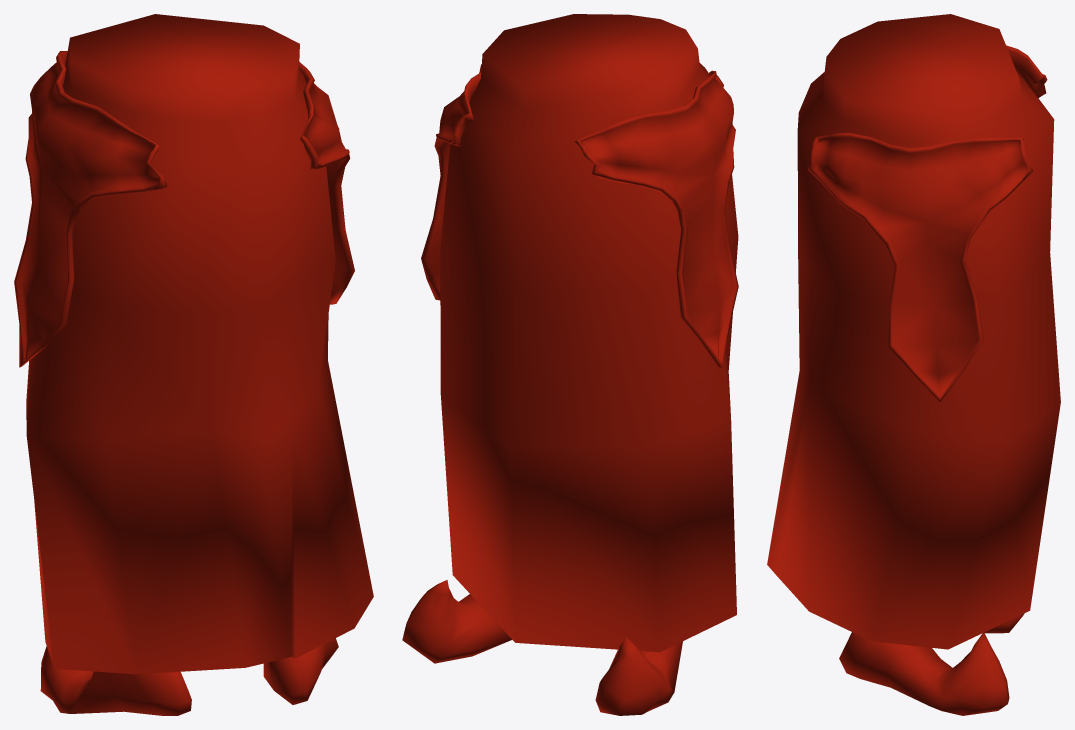
Rendered from bot_000164.obj.
3 renders of one model, left to right at view 1: azimuth 30°, elevation 25°; view 2: azimuth 150°, elevation 25°; view 3: azimuth 270°, elevation 25°, orthographic. The views are drawn at different scales.
Parts seen in each view (by area): view 1: LowPoly_Warlock.004_Plane.004; view 2: LowPoly_Warlock.004_Plane.004; view 3: LowPoly_Warlock.004_Plane.004.
Boxes of the visible parts, x1,y1,x2,y2 form: LowPoly_Warlock.004_Plane.004: (14, 14, 373, 715); LowPoly_Warlock.004_Plane.004: (402, 14, 738, 715); LowPoly_Warlock.004_Plane.004: (767, 14, 1060, 715).
Size of the model in its own units: 0.5653 by 1.12 by 0.4984.
